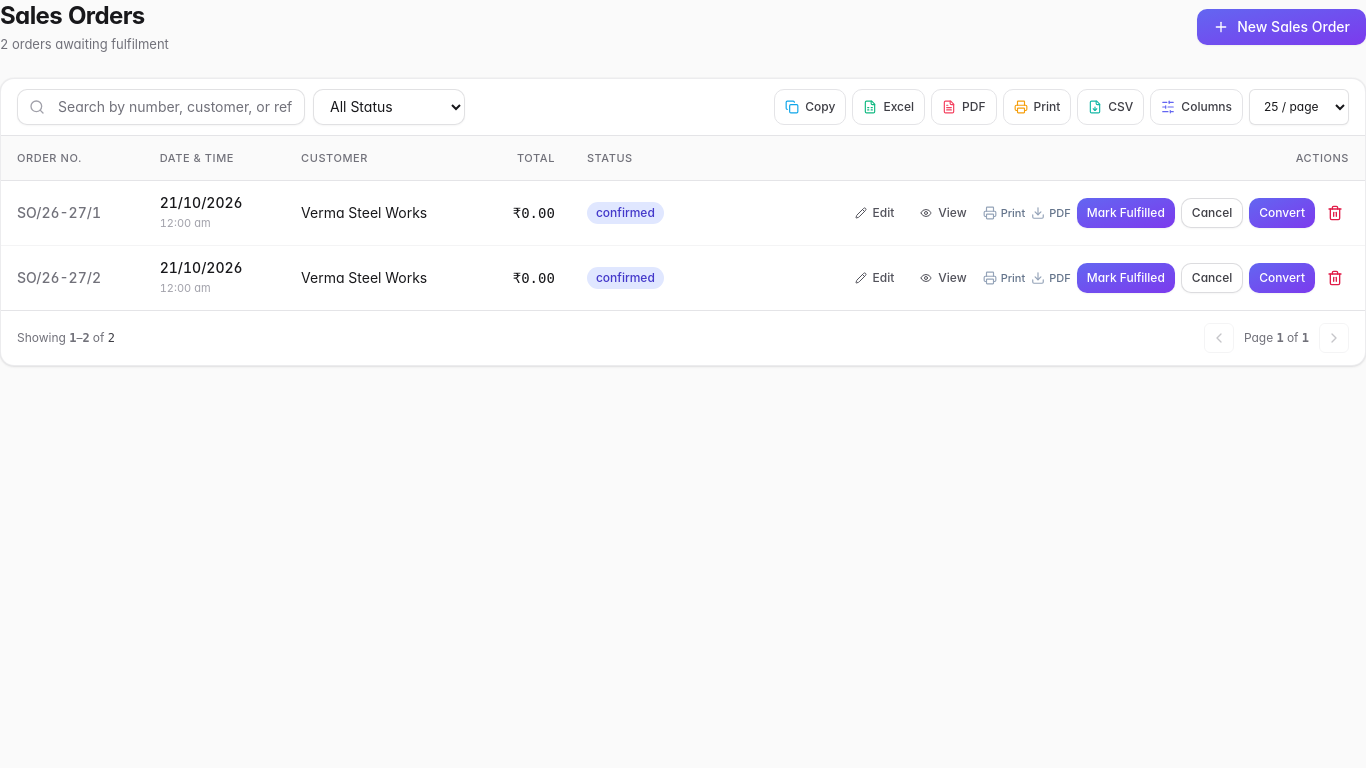
Scenario: SalesOrdersPage — the read is business_id-scoped and never principal-scoped › renders Delete action button in table rows and opens confirmation modal on click
Check: the text "SO/26-27/1" is shown, box [1,180,144,245]
Click delete on the first order
What coordinates should you click on to do the following:
click the button titled "Delete" in the row of "SO/26-27/1"
I would click on:
 (1335, 213)
Its box is [1321,198,1349,228].
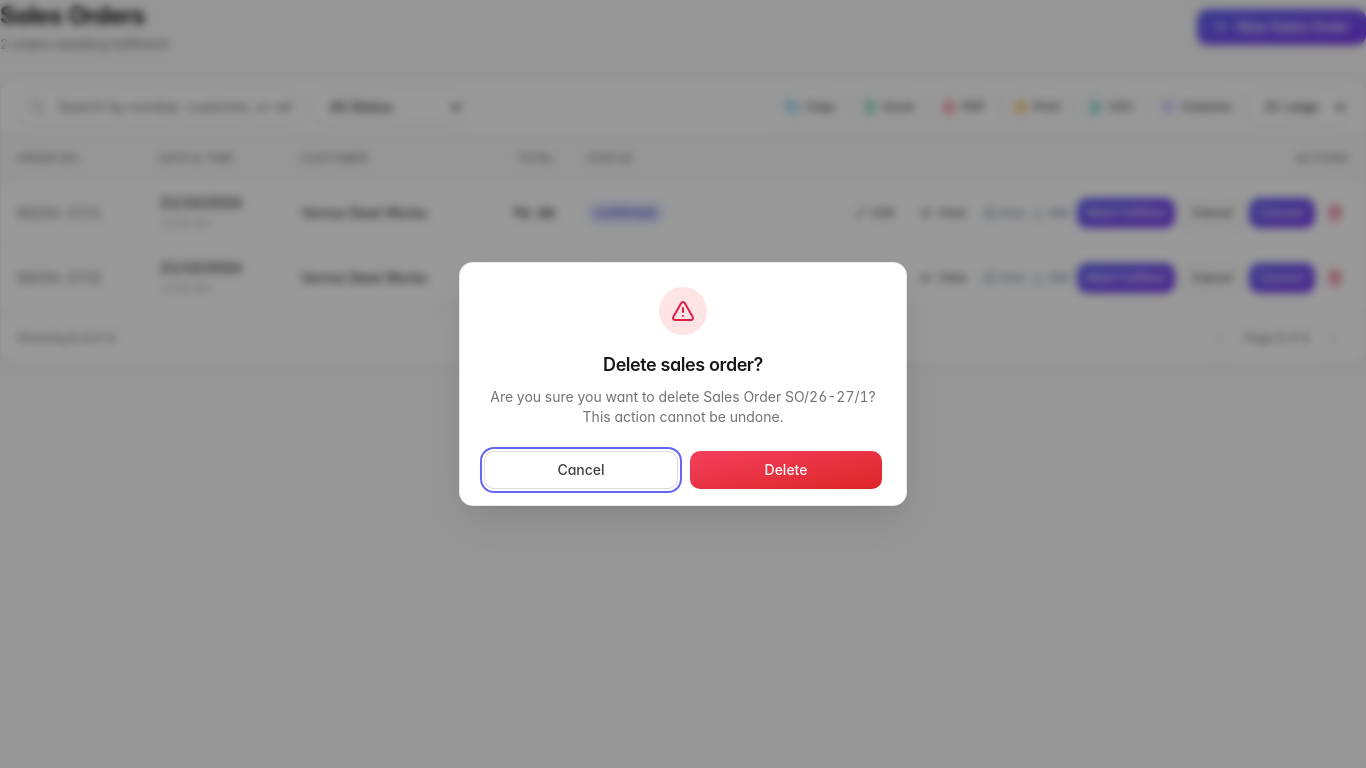
Check: the heading "Delete sales order?" is shown, box [603,351,763,379]
Check: the text "Are you sure you want to delete Sales Order SO/26-27/1? This action cannot be undone." is shown, box [490,388,876,425]
Cancel closes dialog without deleting
What coordinates should you click on to do the following:
click the button "Cancel"
I would click on:
 (581, 470)
Its box is [484,451,678,489].
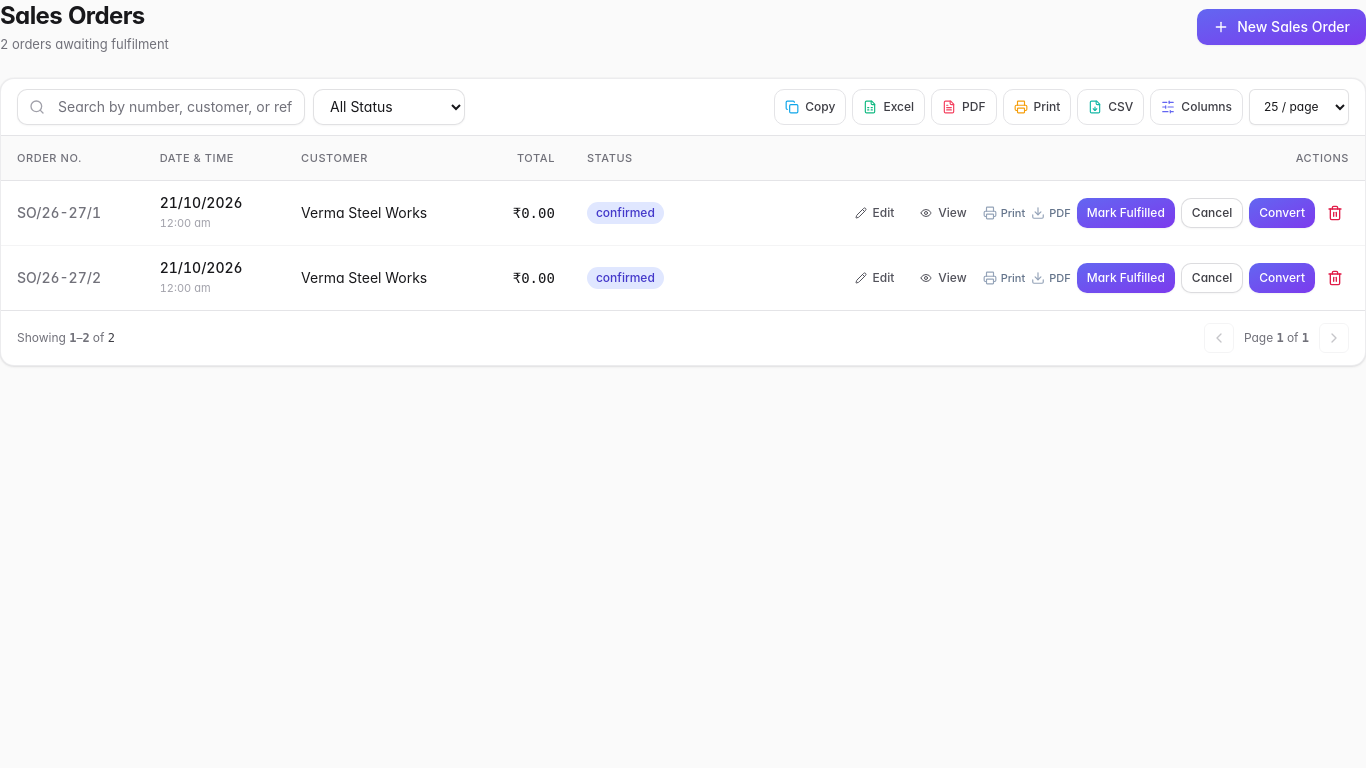
Check: the heading "Delete sales order?" is gone
